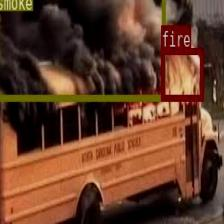fire: (161, 47, 203, 100)
smoke: (0, 0, 164, 100)
